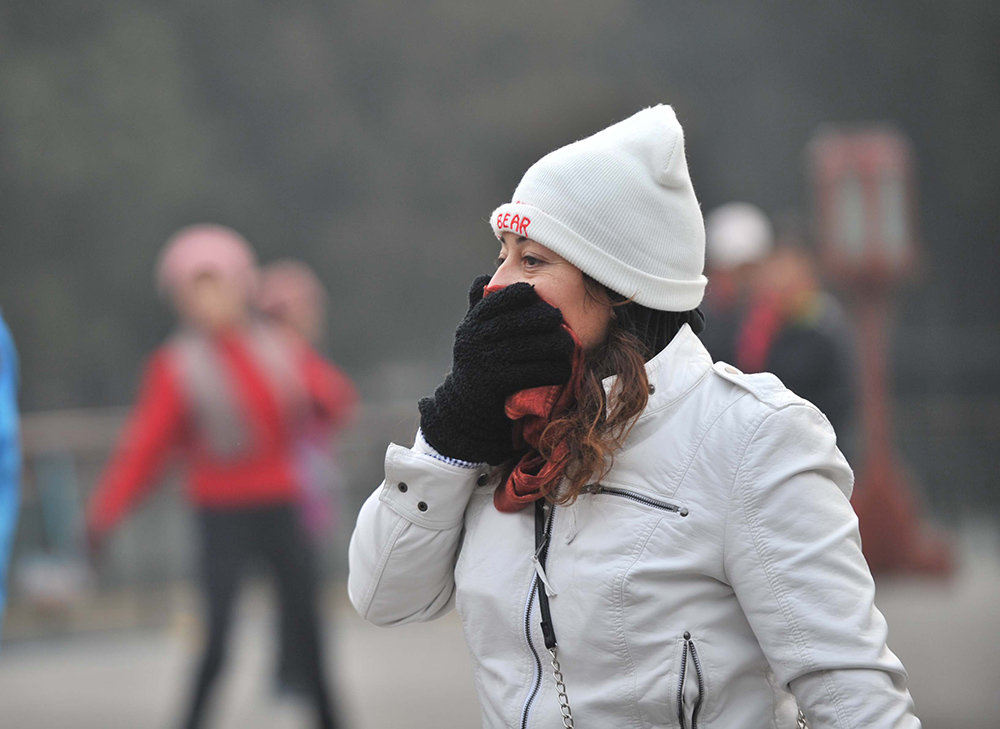face: (487, 214, 599, 369)
